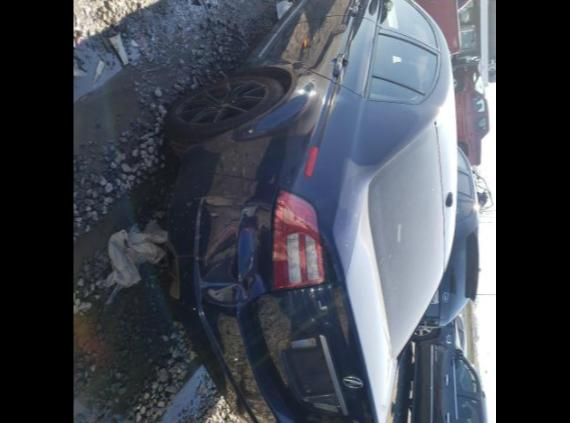Dent: (194, 210, 258, 310)
Missing part: (286, 348, 334, 398)
